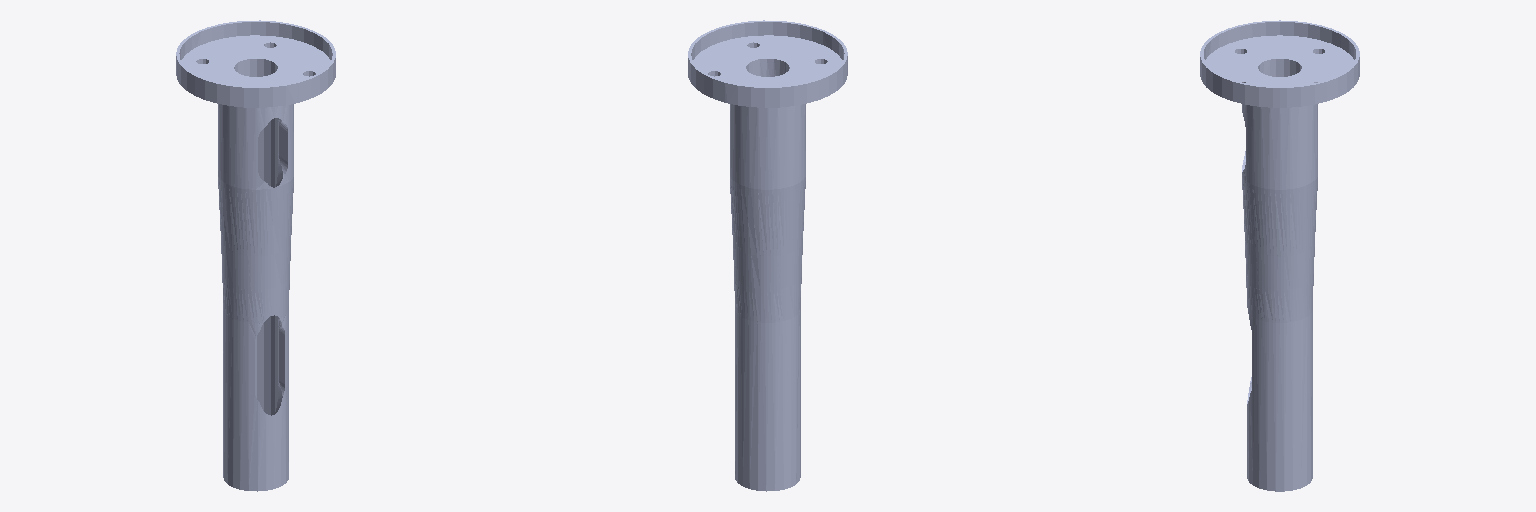
robot.urdf — tool_70mm:
<?xml version="1.0" encoding="utf-8"?>
<!-- This URDF was automatically created by SolidWorks to URDF Exporter! Originally created by Stephen Brawner (brawner@gmail.com) 
     Commit Version: 1.6.0-4-g7f85cfe  Build Version: 1.6.7995.38578
     For more information, please see http://wiki.ros.org/sw_urdf_exporter -->
<robot
  name="tool_70mm">
  <link
    name="base_link">
    <inertial>
      <origin
        xyz="-2.11078556952571E-07 0.00101079663075779 -0.0810411267655116"
        rpy="0 0 0" />
      <mass
        value="0.105658504124794" />
      <inertia
        ixx="0.000442406330734862"
        ixy="-1.21950266951057E-10"
        ixz="-1.47020442568055E-10"
        iyy="0.000443670567309011"
        iyz="3.93202267822577E-07"
        izz="2.81724145104337E-05" />
    </inertial>
    <visual>
      <origin
        xyz="0 0 0"
        rpy="0 0 0" />
      <geometry>
        <mesh
          filename="package://tool_70mm/meshes/base_link.STL" />
      </geometry>
      <material
        name="">
        <color
          rgba="0.792156862745098 0.819607843137255 0.933333333333333 1" />
      </material>
    </visual>
    <collision>
      <origin
        xyz="0 0 0"
        rpy="0 0 0" />
      <geometry>
        <mesh
          filename="package://tool_70mm/meshes/base_link.STL" />
      </geometry>
    </collision>
  </link>
</robot>

--- Render facts (derived) ---
3 views of the same robot in one strip: view 1: azimuth 30°, elevation 25°; view 2: azimuth 150°, elevation 25°; view 3: azimuth 270°, elevation 25° (orthographic).
Model tool_70mm with 1 links and 0 joints (none), rooted at base_link, posed all joints at 0.
Links seen in each view (by area): view 1: base_link; view 2: base_link; view 3: base_link.
Boxes of the visible links, x1,y1,x2,y2 form: base_link: (176,20,335,491); base_link: (688,20,847,491); base_link: (1200,20,1359,491).
Bounding box of the posed robot: 0.073 × 0.073 × 0.213 m (x, y, z).
1 mesh visuals loaded from 1 distinct referenced files (1 binary STL).
